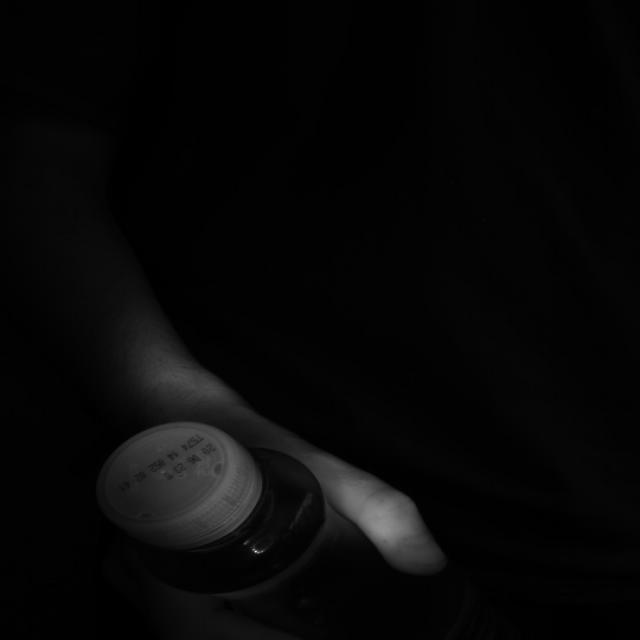Good: (92, 421, 265, 548)
